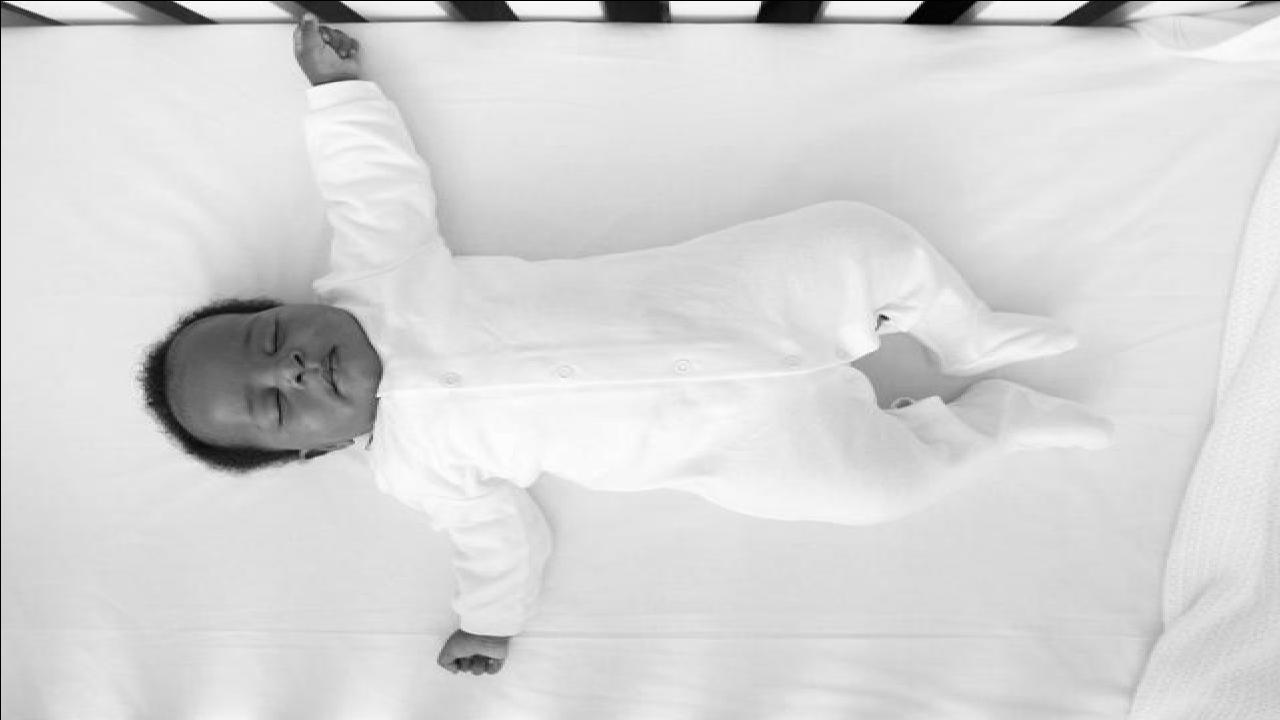hand: (280, 15, 362, 79), (425, 636, 511, 673)
